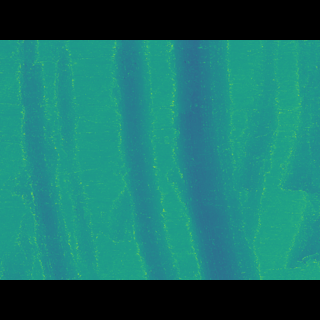Loch: (163, 68, 269, 251), (0, 69, 98, 249), (108, 69, 186, 250), (272, 69, 320, 242)
